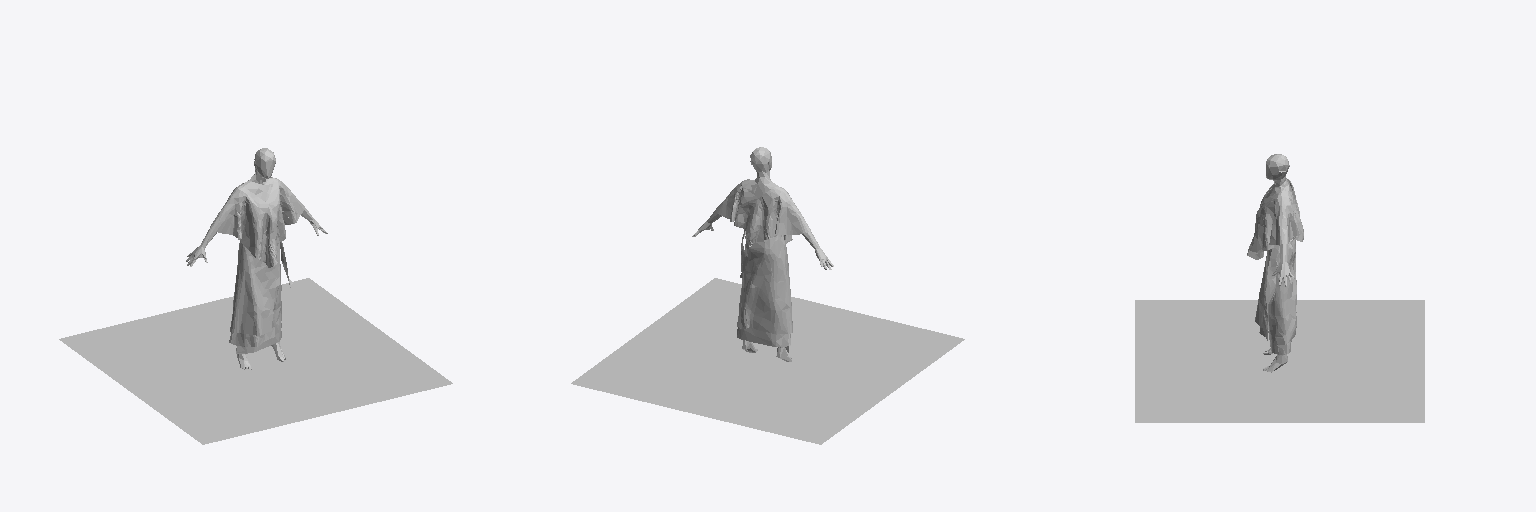
The model's file is wave8.obj.
3 views of the same model, side by side, from view 1: azimuth 30°, elevation 25°; view 2: azimuth 150°, elevation 25°; view 3: azimuth 270°, elevation 25° (orthographic).
Parts seen in each view (by area): view 1: Plane, TrajeTipico, Maniqui; view 2: Plane, TrajeTipico, Maniqui; view 3: Plane, TrajeTipico, Maniqui.
Part boxes in pixels (left/top/right/bottom): Plane: left=59, top=278, right=452, bottom=444; TrajeTipico: left=210, top=177, right=304, bottom=353; Maniqui: left=186, top=148, right=327, bottom=369; Plane: left=571, top=278, right=964, bottom=444; TrajeTipico: left=716, top=179, right=810, bottom=352; Maniqui: left=692, top=147, right=833, bottom=361; Plane: left=1135, top=300, right=1424, bottom=422; TrajeTipico: left=1247, top=179, right=1303, bottom=354; Maniqui: left=1263, top=154, right=1294, bottom=372.
Bounding box in the file's own units: 235 × 189 × 235.